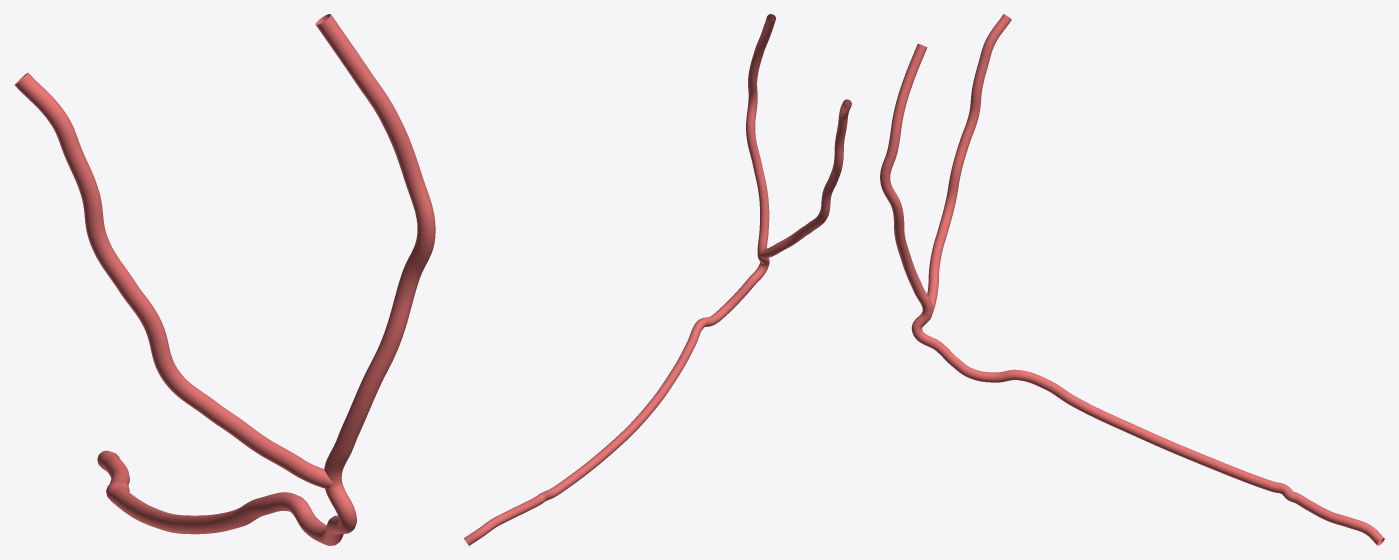
The model's file is Supra-orbital_artery.l.003_BezierCurve.091.glb.
The picture shows the model from 3 angles, left to right: view 1: azimuth 30°, elevation 25°; view 2: azimuth 150°, elevation 25°; view 3: azimuth 270°, elevation 25°; orthographic projection. The views are drawn at different scales.
Parts seen in each view (by area): view 1: Supra-orbital_artery.l.003_BezierCurve.091; view 2: Supra-orbital_artery.l.003_BezierCurve.091; view 3: Supra-orbital_artery.l.003_BezierCurve.091.
Part boxes in pixels (<box>): Supra-orbital_artery.l.003_BezierCurve.091: <box>14,14,435,545</box>; Supra-orbital_artery.l.003_BezierCurve.091: <box>464,14,851,545</box>; Supra-orbital_artery.l.003_BezierCurve.091: <box>880,14,1384,545</box>.
Size of the model in its own units: 0.027 by 0.0474 by 0.0482.
